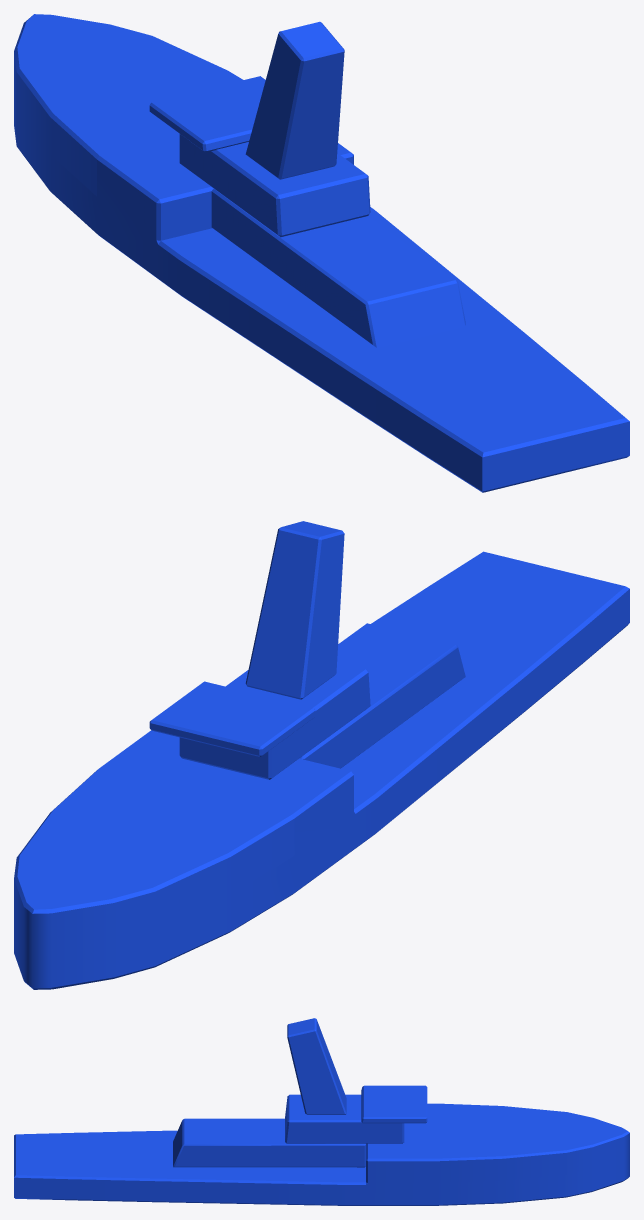
File: Destroyer01.fbx
3 renders of one model, top to bottom at view 1: azimuth 30°, elevation 25°; view 2: azimuth 150°, elevation 25°; view 3: azimuth 270°, elevation 25°, orthographic. The views are drawn at different scales.
Parts seen in each view (by area): view 1: Hull; view 2: Hull; view 3: Hull.
Boxes of the visible parts, x1,y1,x2,y2 form: Hull: (14,14,629,492); Hull: (14,521,629,989); Hull: (14,1018,629,1205).
Size of the model in its own units: 110 by 140 by 504.
